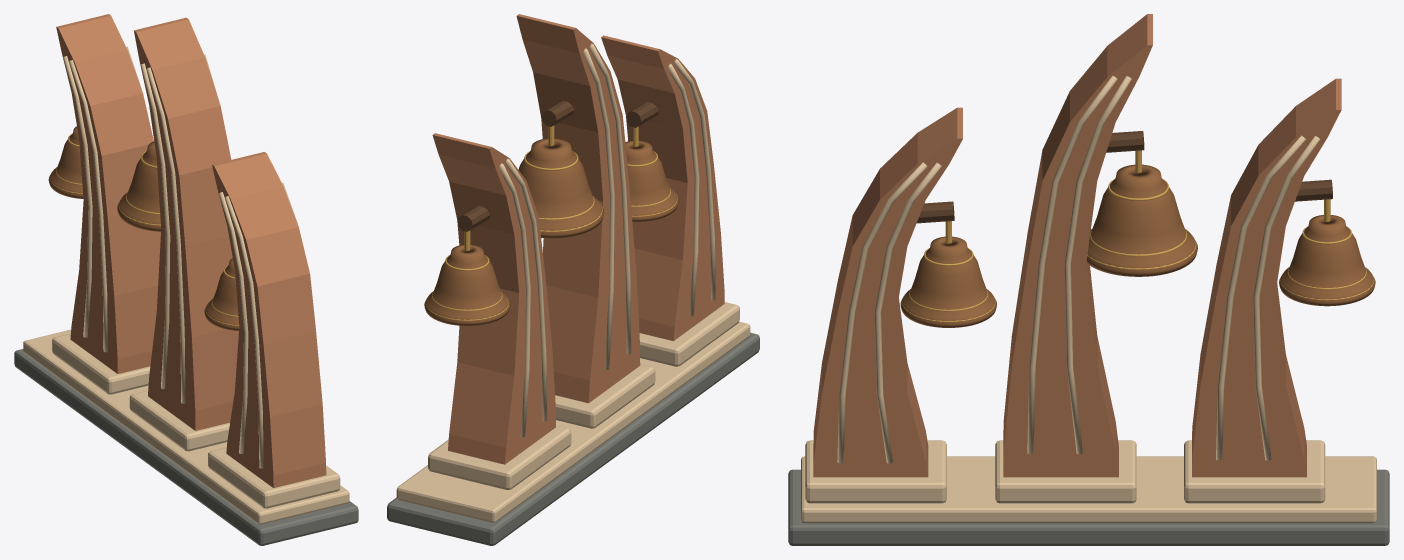
The model's file is artifact-bell-comb.glb.
3 views of the same model, side by side, from view 1: azimuth 30°, elevation 25°; view 2: azimuth 150°, elevation 25°; view 3: azimuth 270°, elevation 25° (orthographic). The views are drawn at different scales.
Parts seen in each view (by area): view 1: Carved ghat rib 2, Carved ghat rib 1, Carved ghat rib 3, Comb footing, Waterline seat, Comb rib foot, Comb rib foot.001, Ghat bell 2 resonator, Comb rib foot.002, Continuous cut moulding.006, Continuous cut moulding.007, Ghat bell 1 resonator (+5 smaller); view 2: Carved ghat rib 2, Carved ghat rib 3, Carved ghat rib 1, Waterline seat, Comb footing, Ghat bell 2 resonator, Ghat bell 3 resonator, Comb rib foot.002, Ghat bell 1 resonator, Comb rib foot, Comb rib foot.001, Continuous cut moulding.007 (+8 smaller); view 3: Carved ghat rib 2, Carved ghat rib 3, Carved ghat rib 1, Waterline seat, Comb footing, Ghat bell 2 resonator, Ghat bell 3 resonator, Ghat bell 1 resonator, Comb rib foot, Comb rib foot.002, Comb rib foot.001, Continuous cut moulding.004 (+6 smaller).
Part boxes in pixels (x1,y1,x2,y2): Carved ghat rib 2: (134, 17, 238, 430); Carved ghat rib 1: (212, 152, 326, 488); Carved ghat rib 3: (56, 14, 160, 373); Comb footing: (14, 349, 358, 545); Waterline seat: (23, 329, 349, 524); Comb rib foot: (208, 447, 340, 508); Comb rib foot.001: (129, 390, 229, 451); Ghat bell 2 resonator: (117, 141, 161, 231); Comb rib foot.002: (52, 333, 150, 394); Continuous cut moulding.006: (146, 67, 185, 403); Continuous cut moulding.007: (140, 63, 170, 389); Ghat bell 1 resonator: (204, 258, 239, 330); Carved ghat rib 2: (516, 14, 640, 403); Carved ghat rib 3: (432, 133, 555, 464); Carved ghat rib 1: (601, 35, 724, 341); Waterline seat: (396, 321, 750, 522); Comb footing: (387, 332, 759, 545); Ghat bell 2 resonator: (518, 138, 604, 238); Ghat bell 3 resonator: (424, 244, 510, 325); Comb rib foot.002: (428, 425, 571, 489); Ghat bell 1 resonator: (625, 140, 678, 221); Comb rib foot: (639, 302, 739, 366); Comb rib foot.001: (555, 364, 655, 428); Continuous cut moulding.007: (583, 48, 614, 369); Carved ghat rib 2: (1003, 14, 1152, 477); Carved ghat rib 3: (1192, 78, 1341, 477); Carved ghat rib 1: (813, 107, 962, 477); Waterline seat: (801, 456, 1376, 523); Comb footing: (788, 469, 1389, 545); Ghat bell 2 resonator: (1086, 164, 1197, 276); Ghat bell 3 resonator: (1279, 215, 1375, 306); Ghat bell 1 resonator: (900, 236, 996, 327); Comb rib foot: (805, 440, 946, 503); Comb rib foot.002: (1184, 440, 1325, 503); Comb rib foot.001: (995, 440, 1136, 503); Continuous cut moulding.004: (1027, 75, 1117, 454).
Bounding box in the file's own units: 1.1 × 4.23 × 4.72.
